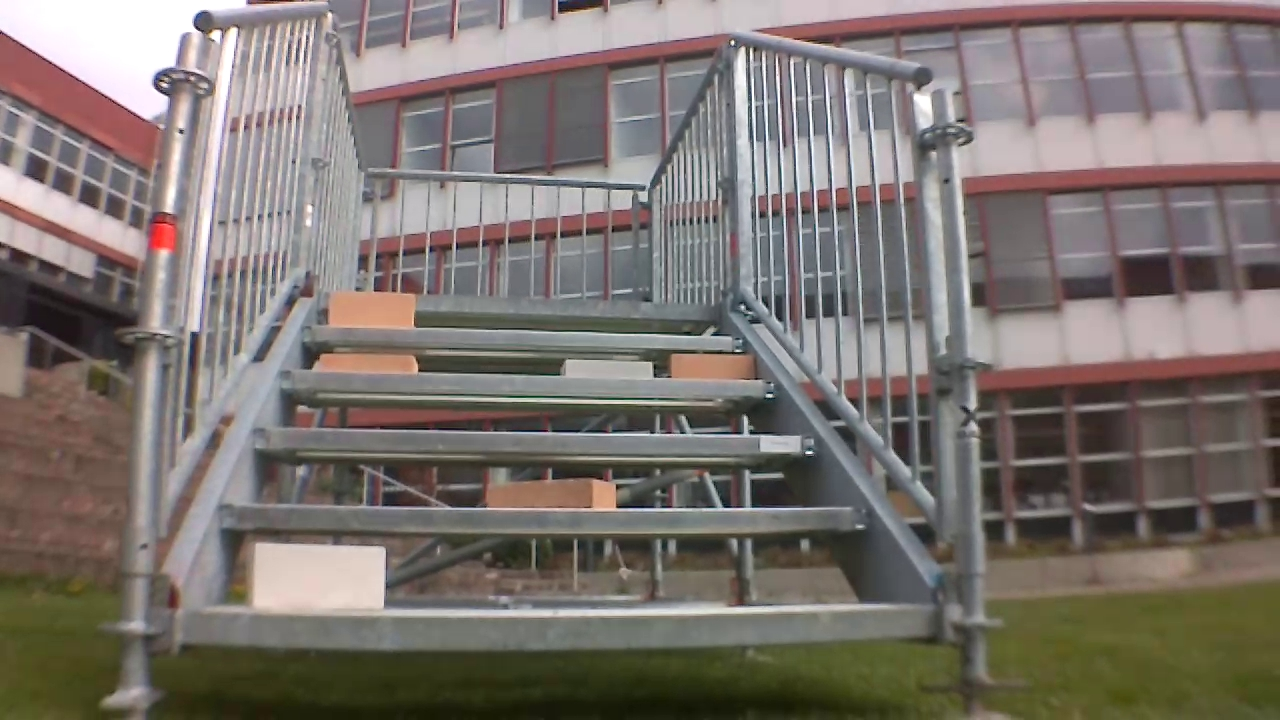brick: (246, 540, 390, 602), (482, 477, 618, 507), (324, 288, 414, 325), (670, 350, 754, 377), (562, 359, 650, 379), (318, 353, 416, 370)
edge: (184, 597, 946, 655), (213, 499, 879, 528), (247, 431, 819, 457), (293, 328, 746, 353), (267, 375, 785, 396), (318, 300, 723, 318)
stairs: (124, 3, 973, 702)
steps: (165, 302, 941, 658)
